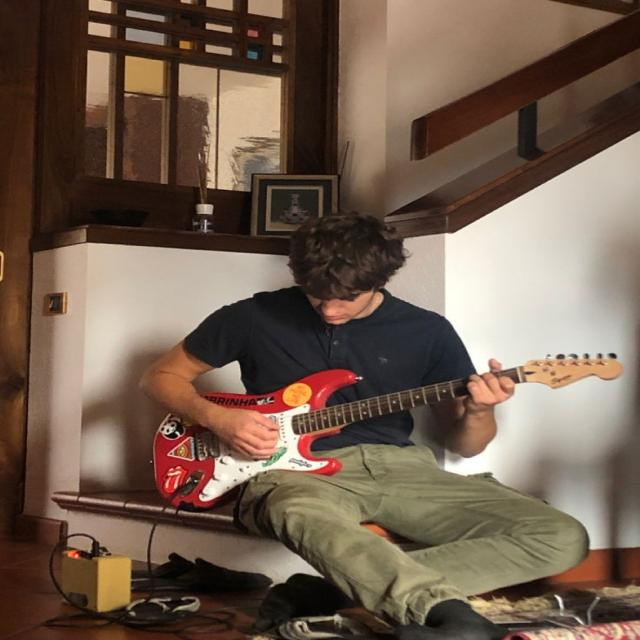9_cabeza_baja: (286, 210, 411, 324)
